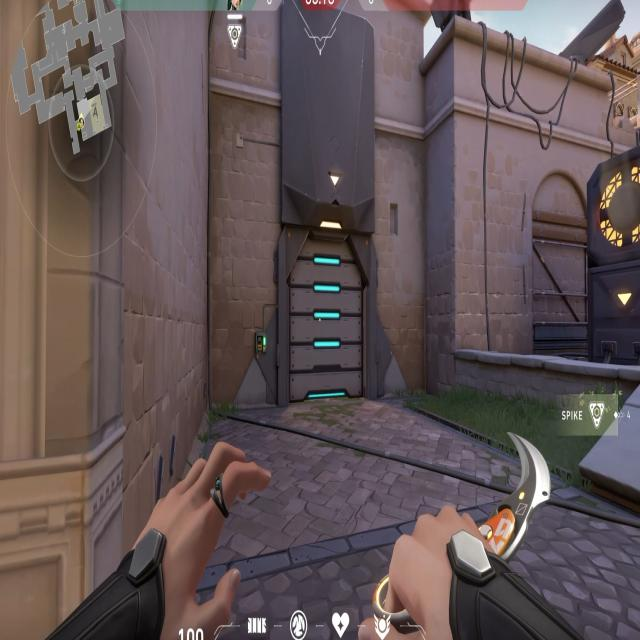A_Door: (281, 187, 378, 416)
